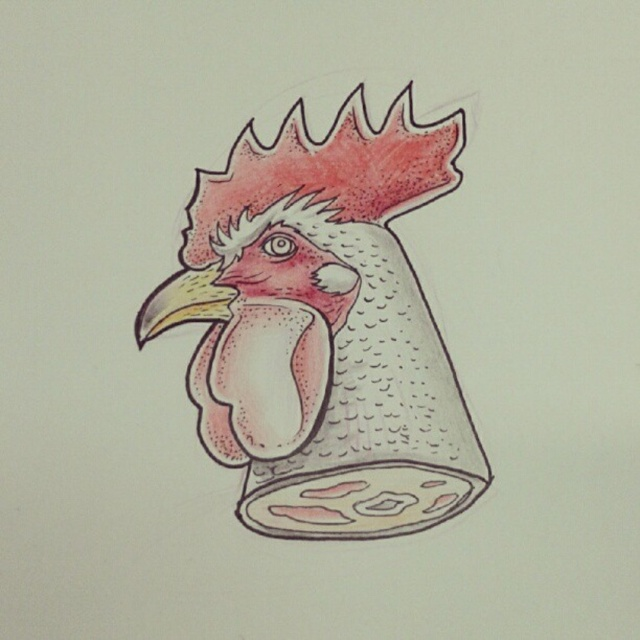Chicken: (135, 74, 496, 542)
